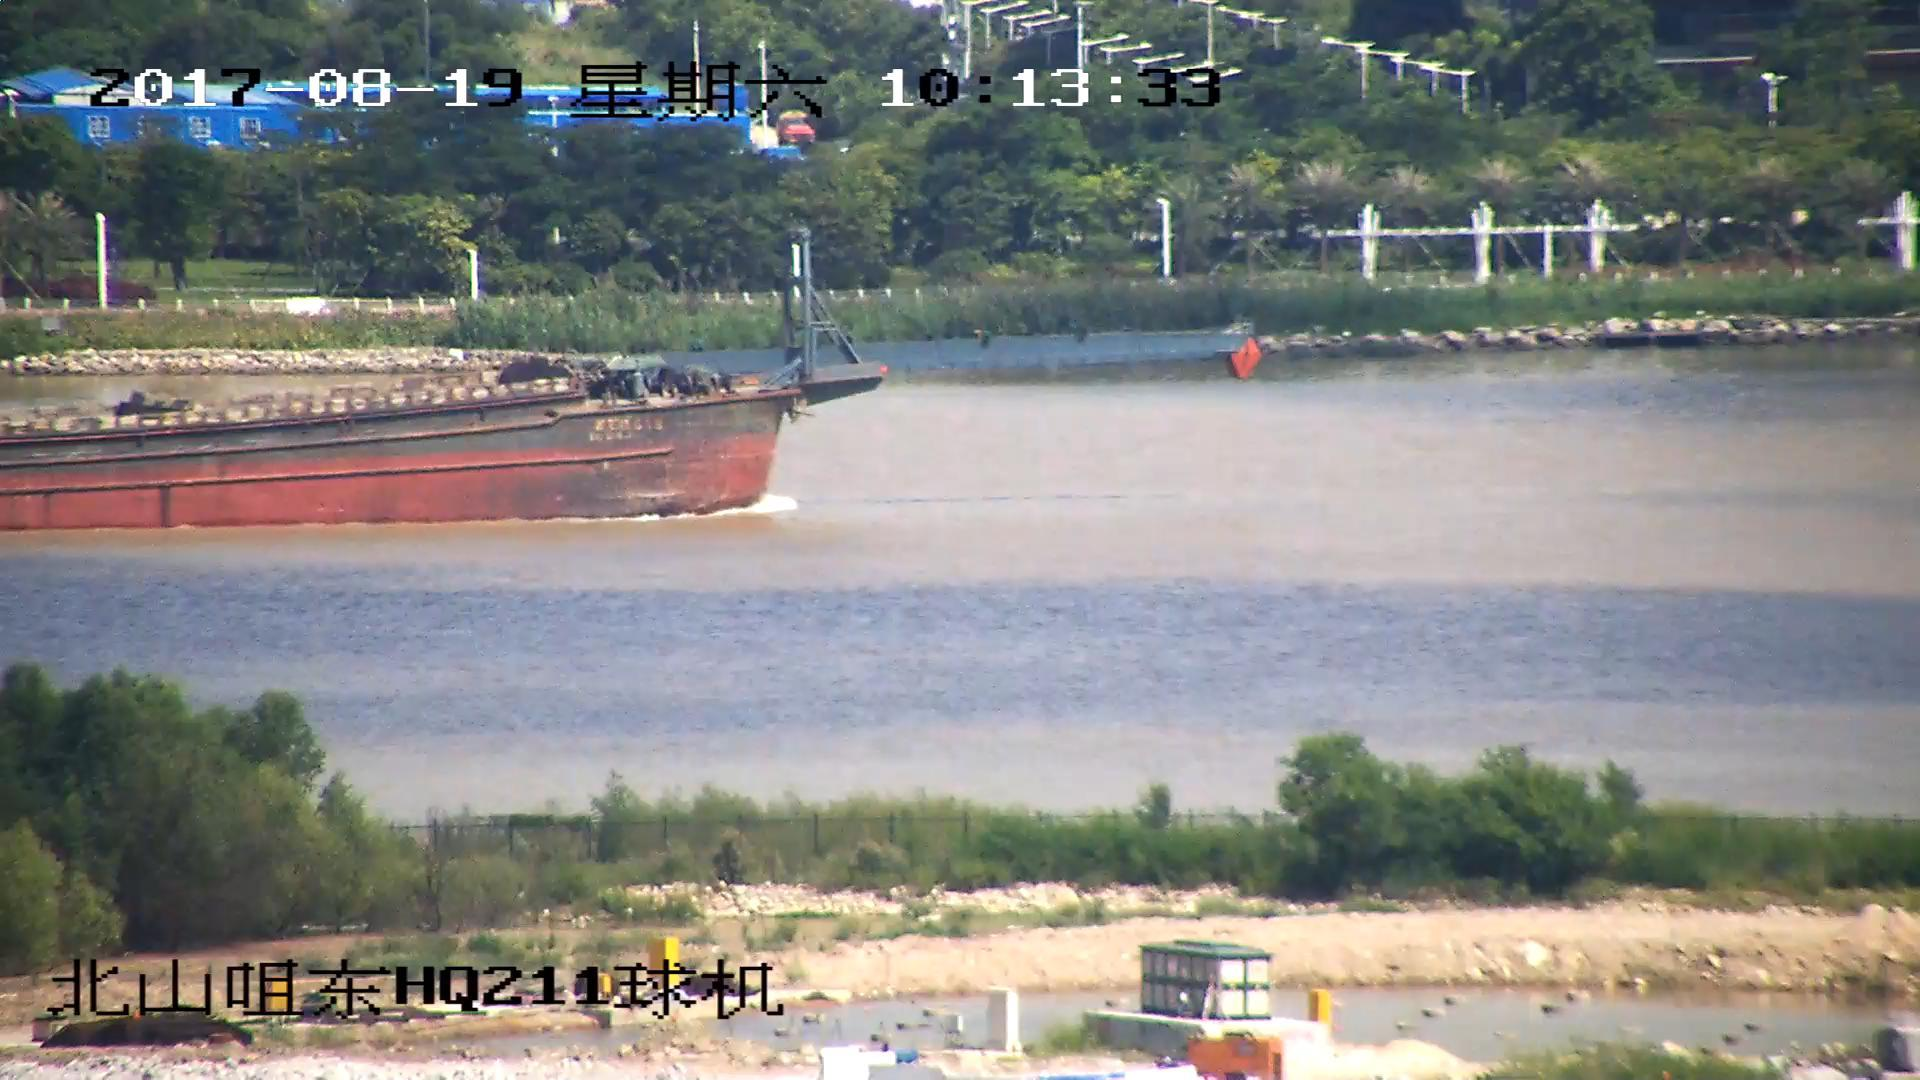Ship: (3, 229, 1259, 533)
